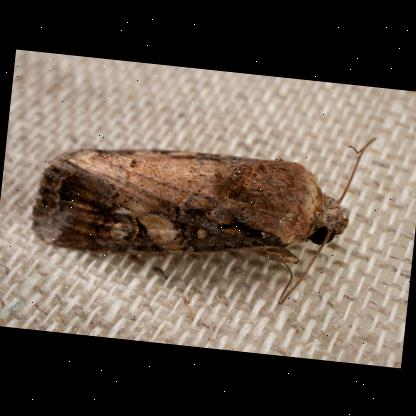Fall Armyworm Moth: (22, 98, 378, 316)
